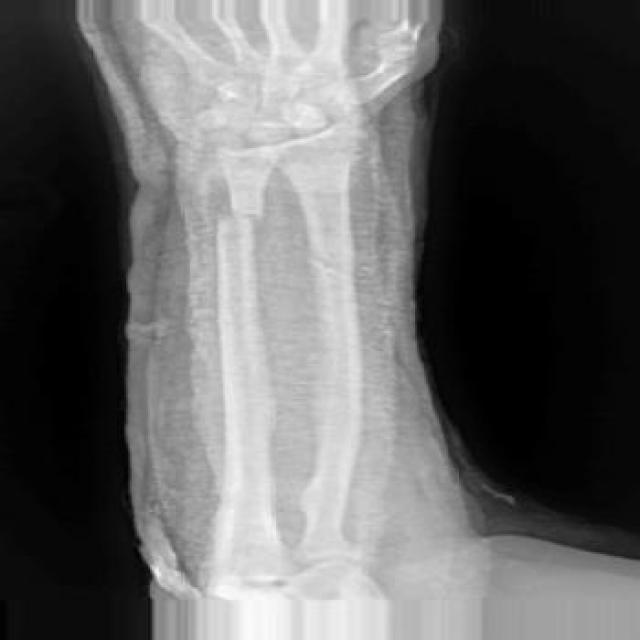Fracture: (305, 239, 372, 290), (205, 198, 270, 230)
